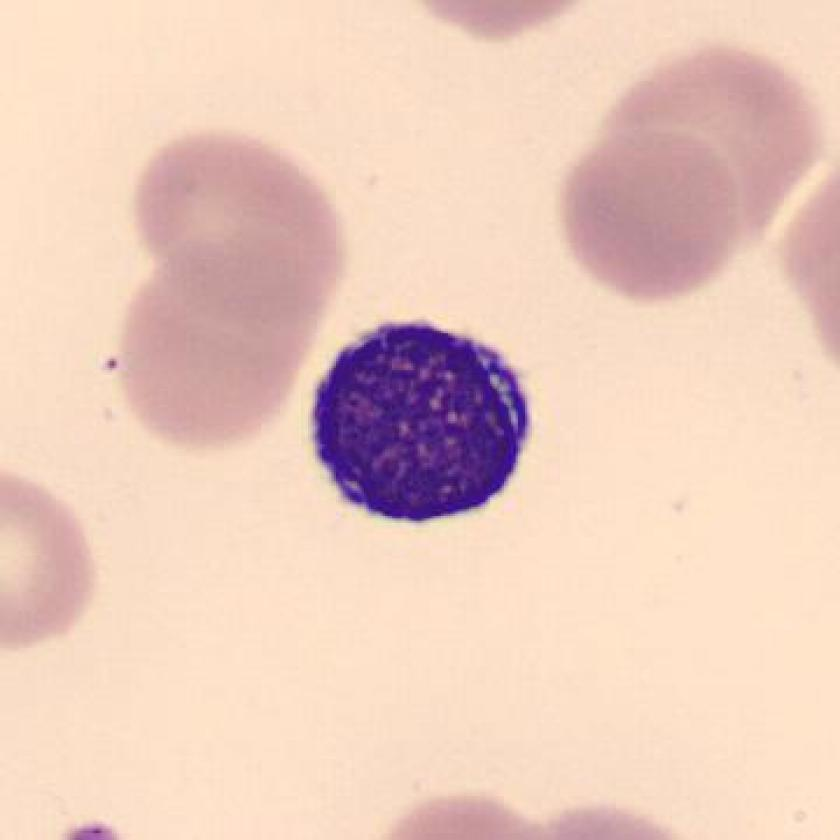lymphocyte: (291, 300, 557, 543)
